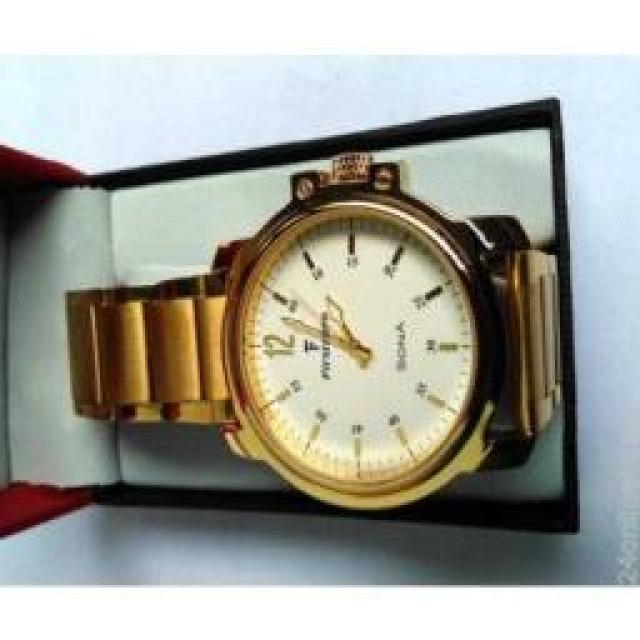saat: (56, 145, 572, 522)
